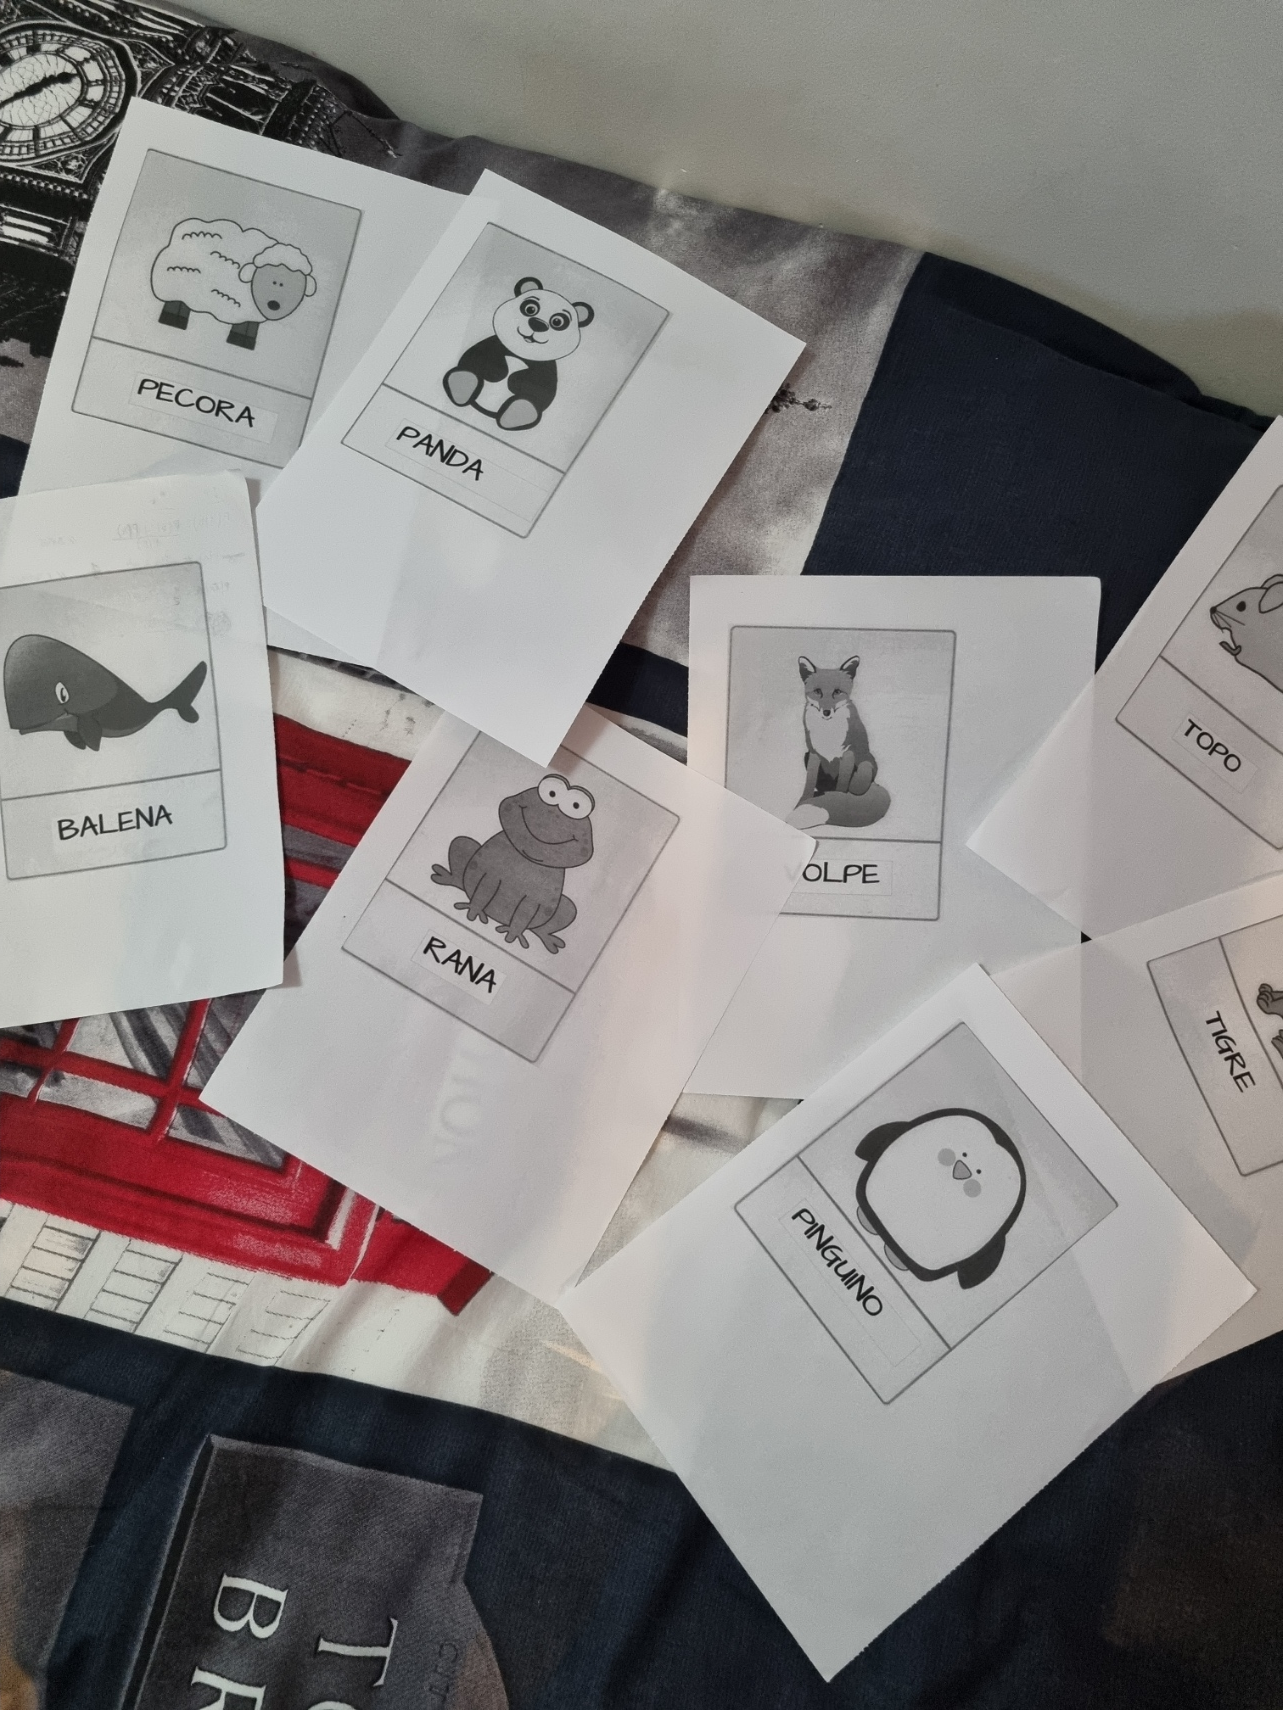balena: (1, 585, 243, 860)
panda: (374, 267, 599, 540)
pecora: (116, 183, 325, 458)
pinguino: (768, 1096, 1040, 1356)
rana: (388, 762, 604, 1044)
volpe: (743, 631, 936, 908)
